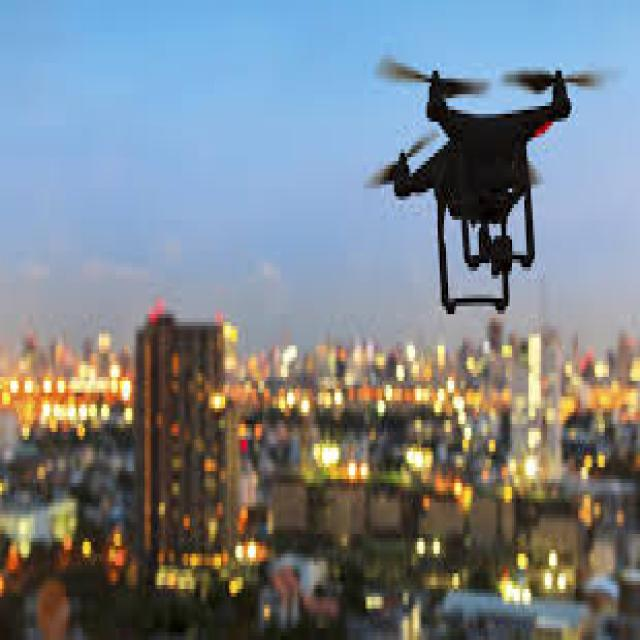drones: (358, 39, 626, 319)
